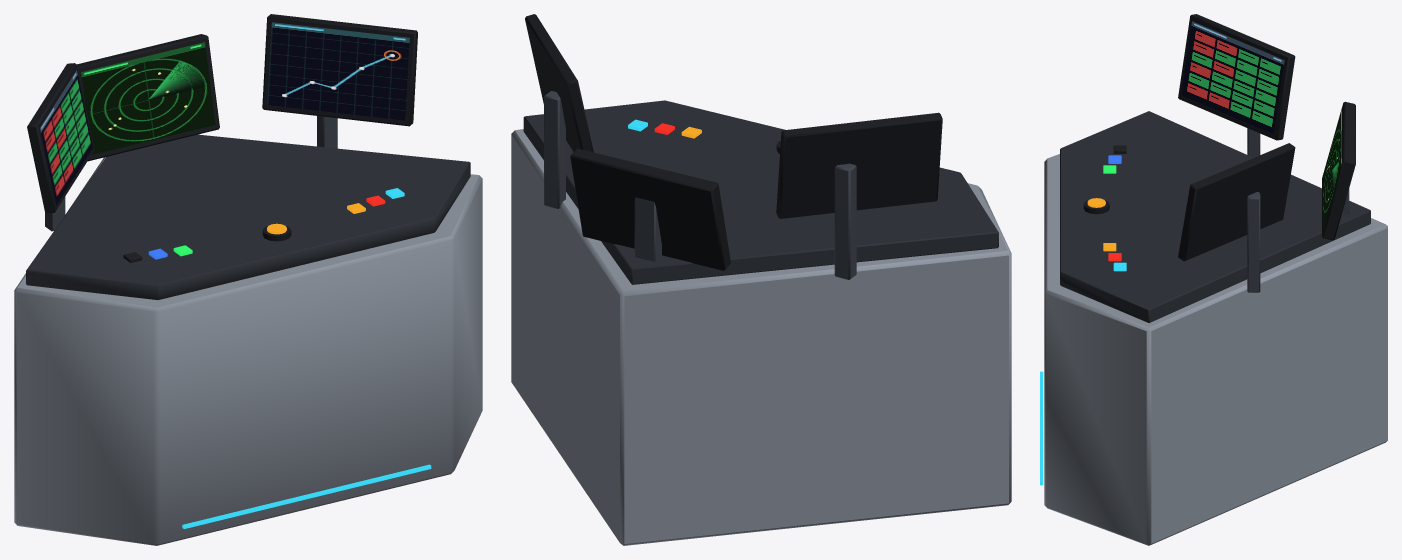
The model's file is console_corner.glb.
3 renders of one model, left to right at view 1: azimuth 30°, elevation 25°; view 2: azimuth 150°, elevation 25°; view 3: azimuth 270°, elevation 25°, orthographic. The views are drawn at different scales.
Visible parts, largest first — view 1: console_corner; view 2: console_corner; view 3: console_corner.
Boxes of the visible parts, box(x1,y1,x2,y2) form: console_corner: box(14, 14, 482, 545); console_corner: box(511, 14, 1011, 545); console_corner: box(1040, 14, 1387, 545).
Bounding box in the file's own units: 1.88 × 1.45 × 1.33.
Materials: 13 (3 with a texture image).
